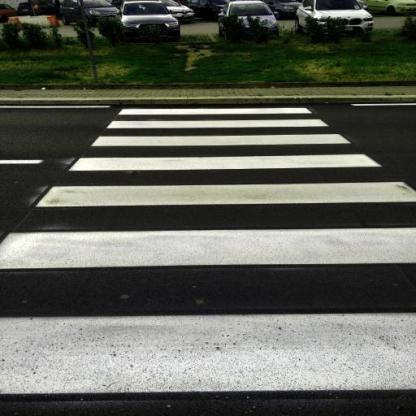crosswalk: (0, 217, 416, 408), (59, 130, 390, 177)
